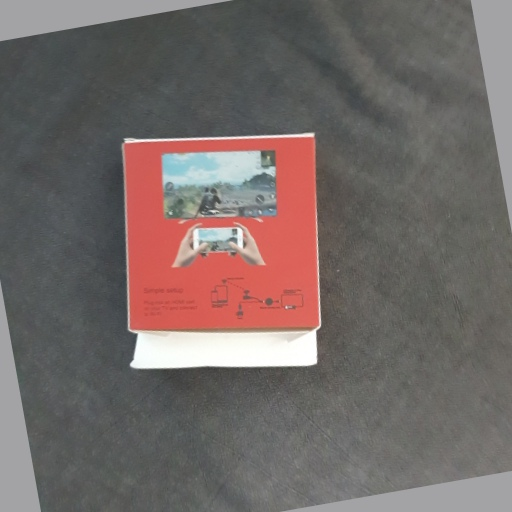Paper_0: (113, 127, 329, 376)
